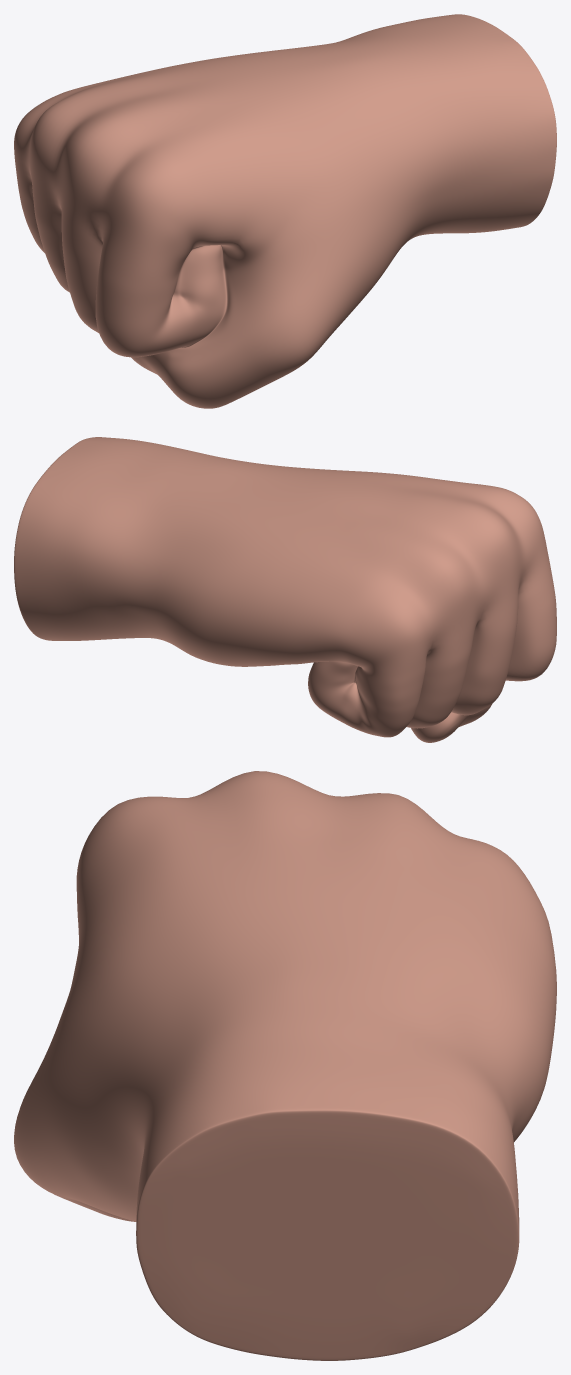
File: Fist_Output.fbx
3 renders of one model, top to bottom at view 1: azimuth 30°, elevation 25°; view 2: azimuth 150°, elevation 25°; view 3: azimuth 270°, elevation 25°, orthographic. The views are drawn at different scales.
Parts seen in each view (by area): view 1: _Hand_v2:fist; view 2: _Hand_v2:fist; view 3: _Hand_v2:fist.
Part boxes in pixels (x1,y1,x2,y2): _Hand_v2:fist: [14, 14, 556, 408]; _Hand_v2:fist: [14, 437, 556, 742]; _Hand_v2:fist: [14, 771, 556, 1360].
Size of the model in its own units: 12.11 by 6.84 by 8.36.
Materials: 1 (1 with a texture image).
